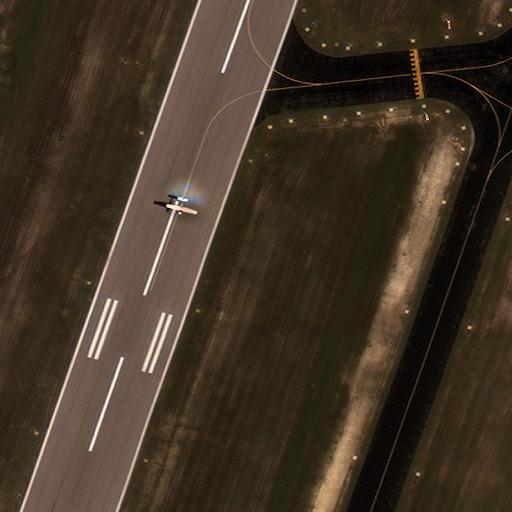Small Civil Transport: (166, 196, 197, 216)
